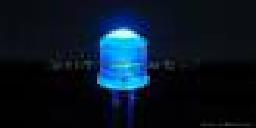LED: (94, 21, 154, 102)
